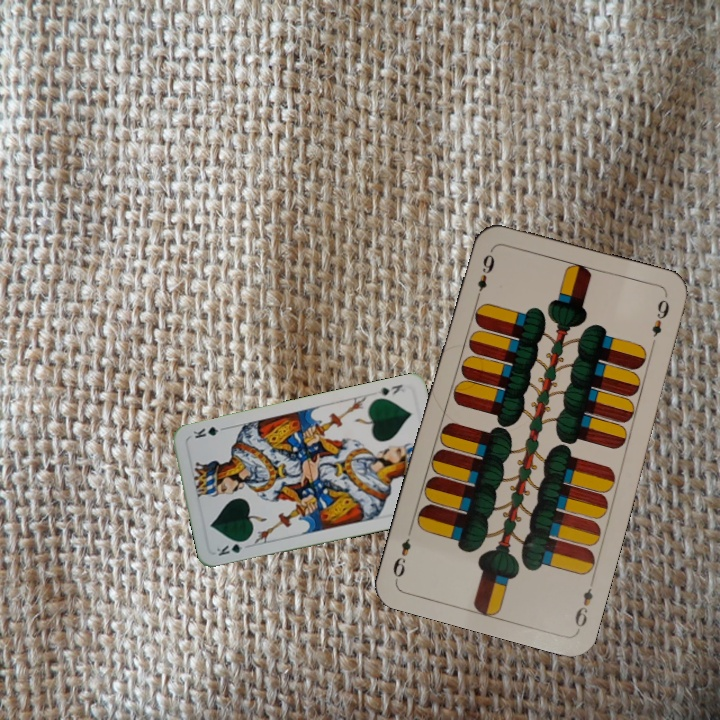E9: (471, 246, 498, 304), (570, 584, 596, 630)
GK: (212, 536, 250, 558), (370, 380, 407, 398)
